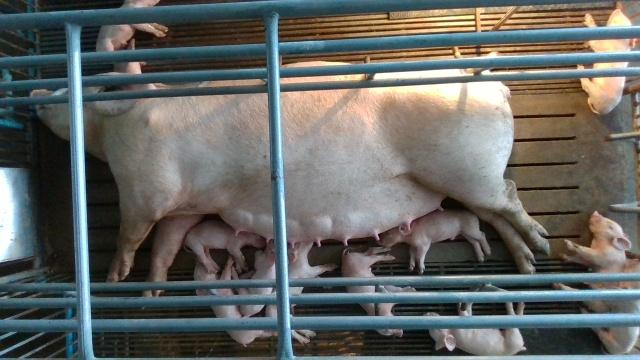piglet: (557, 208, 632, 319), (372, 208, 495, 269), (341, 245, 417, 338), (268, 239, 335, 344), (192, 258, 263, 348), (576, 8, 634, 118), (423, 301, 527, 356), (581, 261, 640, 354), (183, 218, 268, 274), (94, 0, 170, 50), (230, 239, 275, 318)
sow-sleep-lactate: (30, 38, 550, 297)
